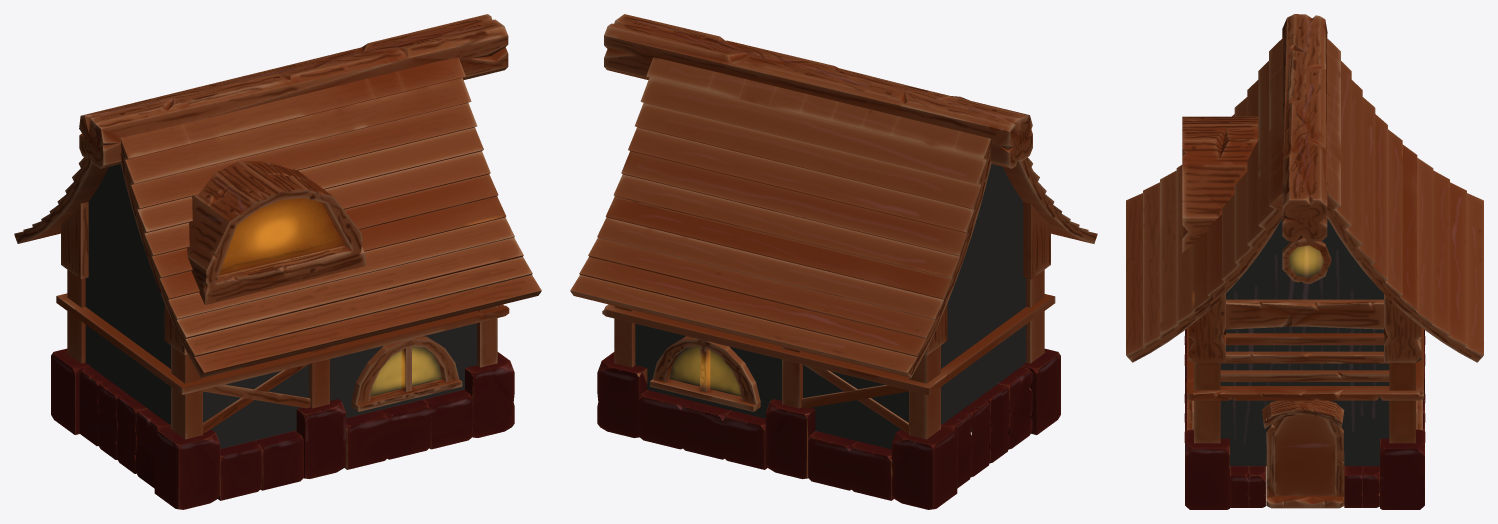
Rendered from house3.glb.
The picture shows the model from 3 angles, left to right: view 1: azimuth 30°, elevation 25°; view 2: azimuth 150°, elevation 25°; view 3: azimuth 270°, elevation 25°; orthographic projection. The views are drawn at different scales.
Visible parts, largest first — view 1: defaultobject; view 2: defaultobject; view 3: defaultobject.
Boxes of the visible parts, bbox=[...] form: defaultobject: bbox=[14, 14, 541, 509]; defaultobject: bbox=[570, 14, 1097, 509]; defaultobject: bbox=[1126, 14, 1483, 509].
Bounding box in the file's own units: 2 × 1.66 × 1.62.
1 material, 1 textured.
